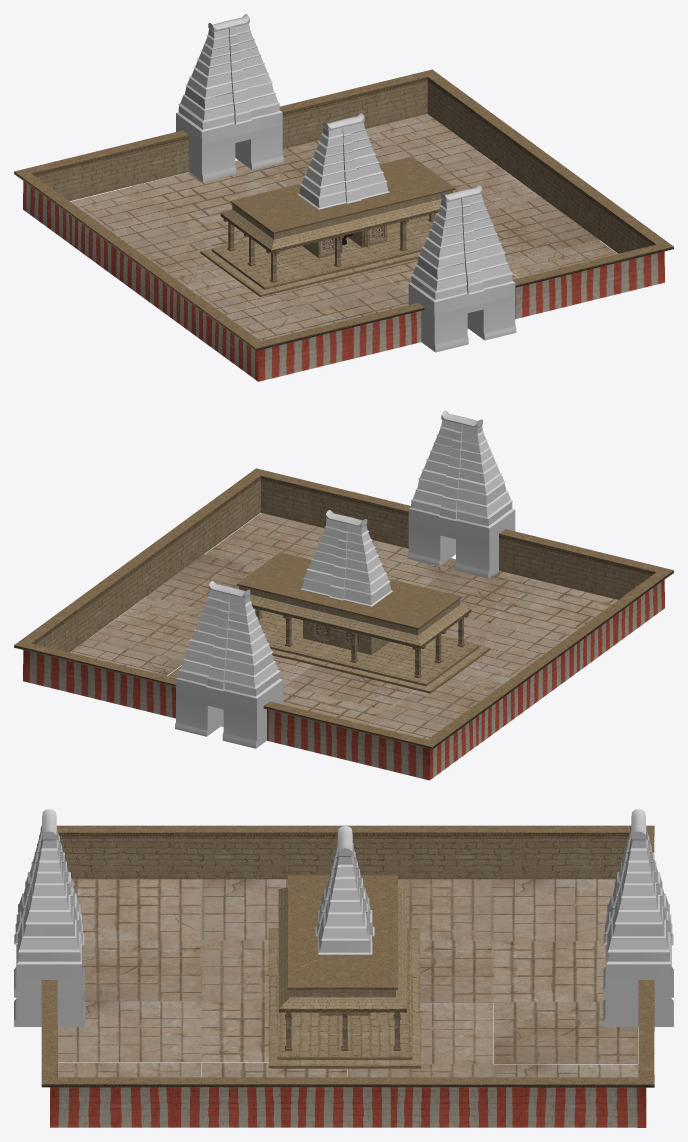
Rendered from Modularkit_assembled.fbx.
3 renders of one model, top to bottom at view 1: azimuth 30°, elevation 25°; view 2: azimuth 150°, elevation 25°; view 3: azimuth 270°, elevation 25°, orthographic. The views are drawn at different scales.
Parts seen in each view (by area): view 1: Temple; view 2: Temple; view 3: Temple.
Part boxes in pixels (x1,y1,x2,y2): Temple: [14, 14, 673, 381]; Temple: [14, 410, 673, 780]; Temple: [14, 809, 673, 1127].
Bounding box in the file's own units: 28.8 × 9.43 × 31.05.
